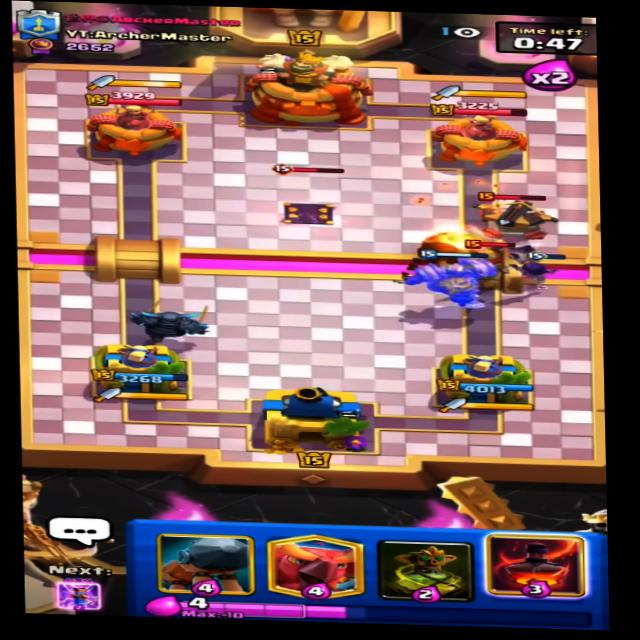evo-tesla-closed: (259, 161, 353, 228)
knight: (453, 235, 529, 279)
x-bow: (459, 186, 564, 246)
